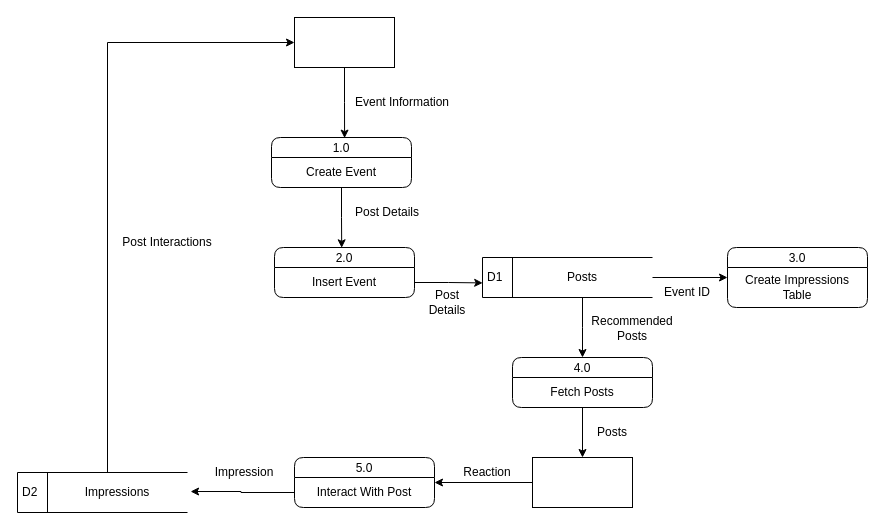
Some shapes in this 885 by 530 pixel diagram are drawn without their labels. Here are the shapes that lost their labels. From the top down, the centre of each, then its label:
At [344,42]: "Club".
At [582,482]: "User".
